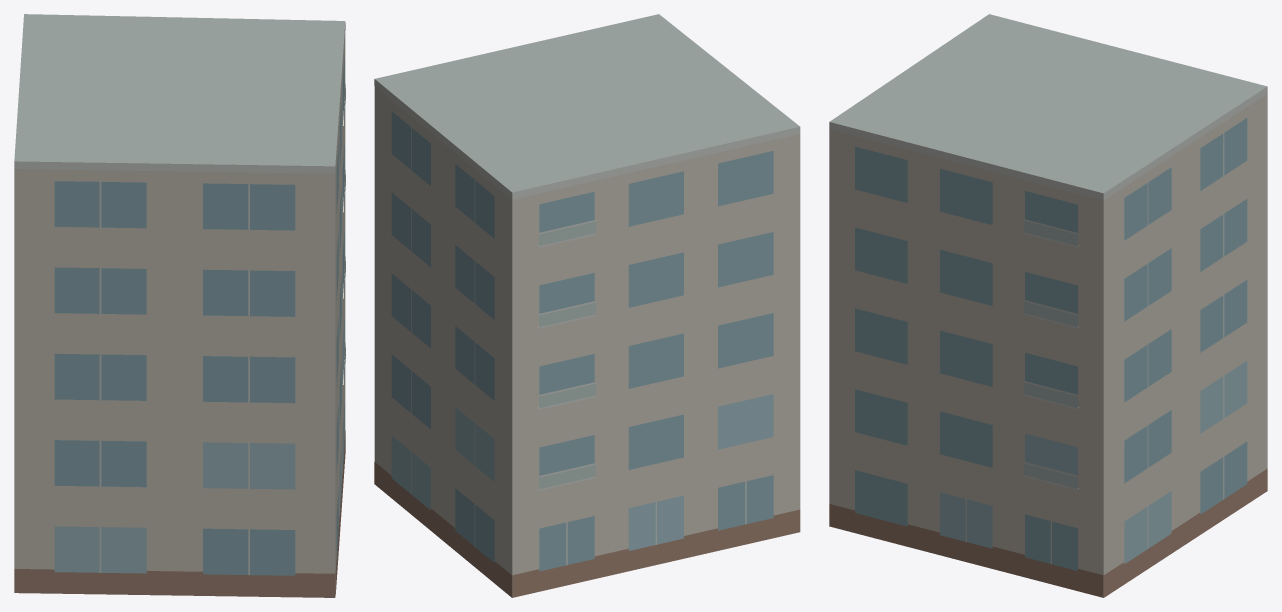
The model's file is survey-upis-32883436.glb.
The picture shows the model from 3 angles, left to right: view 1: azimuth 30°, elevation 25°; view 2: azimuth 150°, elevation 25°; view 3: azimuth 270°, elevation 25°; orthographic projection. The views are drawn at different scales.
Parts seen in each view (by area): view 1: survey-upis-32883436.tmp; view 2: survey-upis-32883436.tmp; view 3: survey-upis-32883436.tmp.
Boxes of the visible parts, box(x1,y1,x2,y2) form: survey-upis-32883436.tmp: box(14, 14, 345, 597); survey-upis-32883436.tmp: box(374, 14, 800, 597); survey-upis-32883436.tmp: box(829, 14, 1267, 597).
Bounding box in the file's own units: 13.23 × 13.9 × 13.66.
